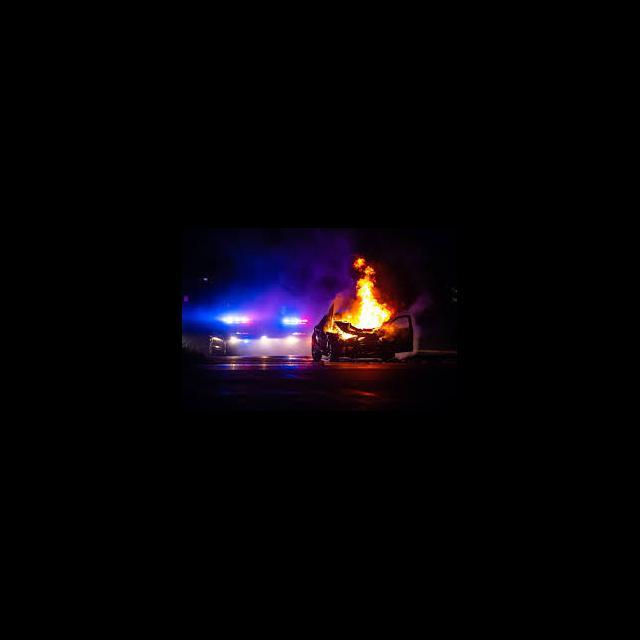Fire: (323, 252, 400, 340)
